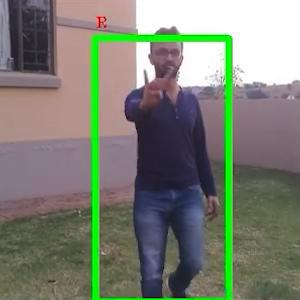takeoff-hand: (136, 59, 179, 114)
